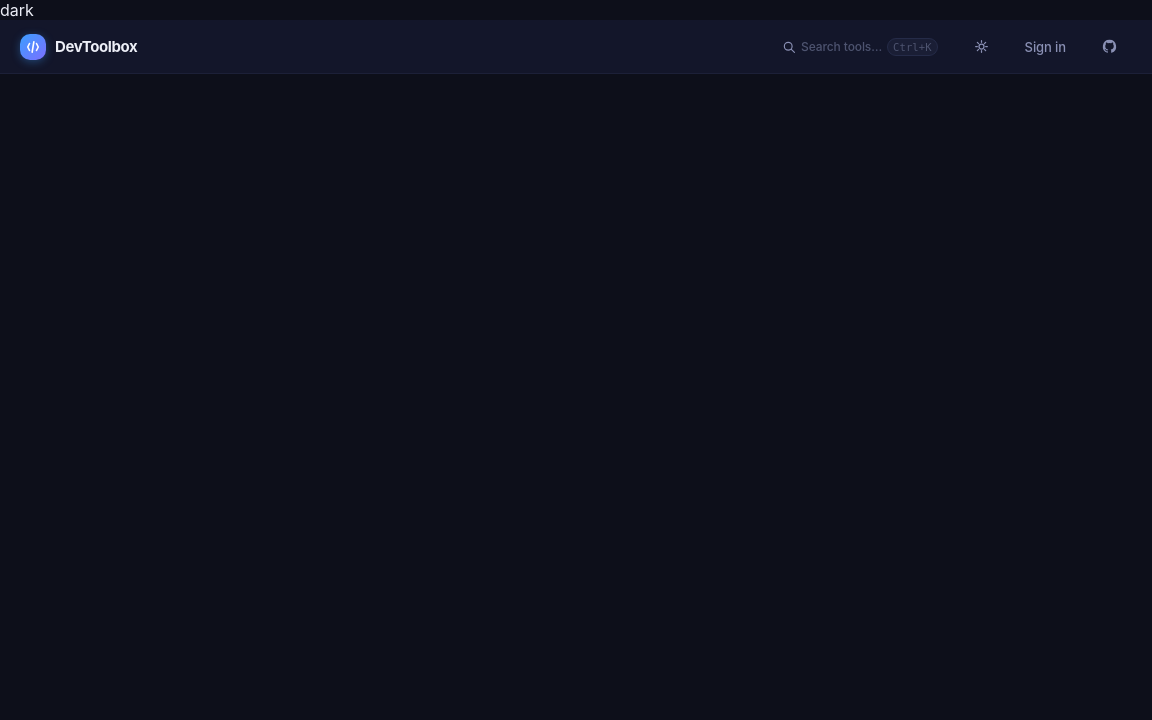
it: Header › opens and closes the sign-in modal
The image size is (1152, 720).
Check: the field labelled "Email" is not shown
Click the button "Sign in": (1045, 46) [1010,30,1081,62]
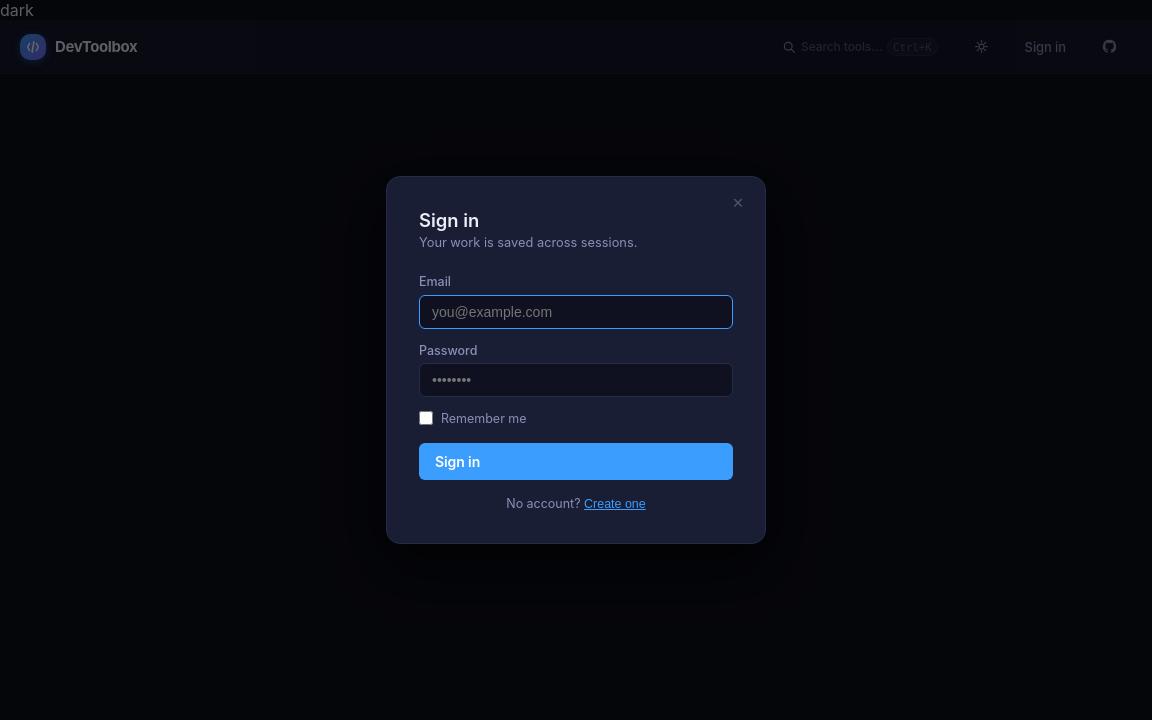
Check: the field labelled "Email" is shown, box [419,295,733,329]
Check: the password field labelled "Password" is shown, box [419,363,733,397]
Click the button named "Close": (738, 203) [723,189,753,216]
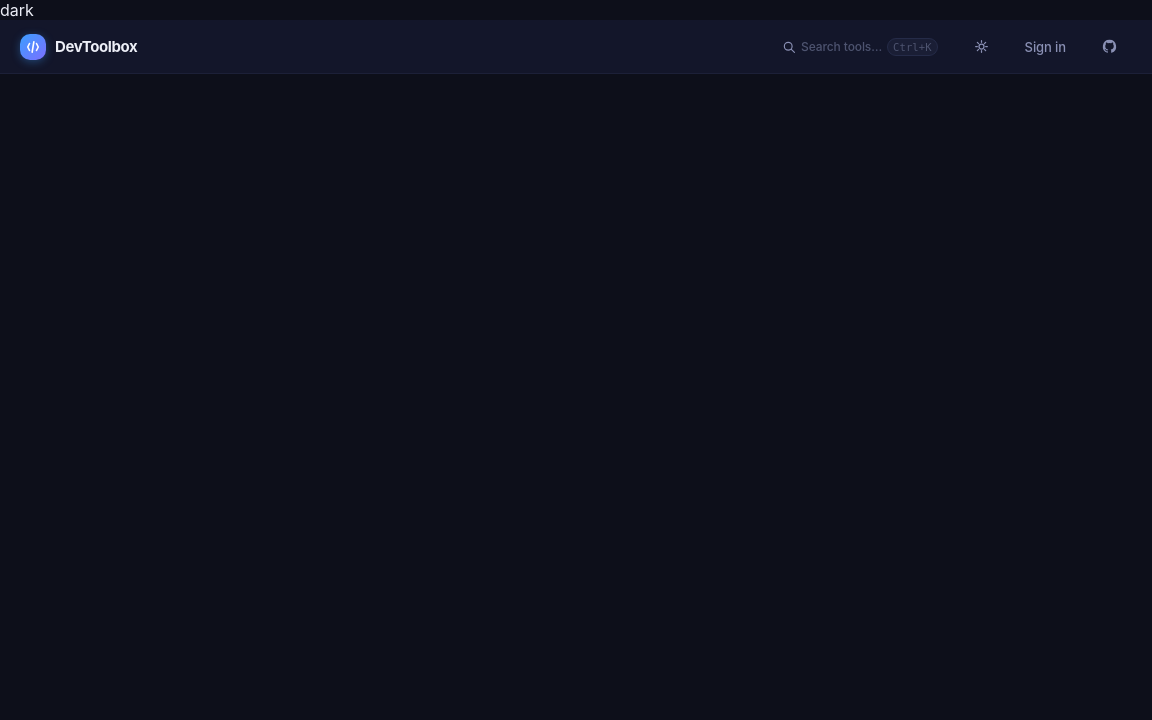
Check: the text labelled "Email" is gone
